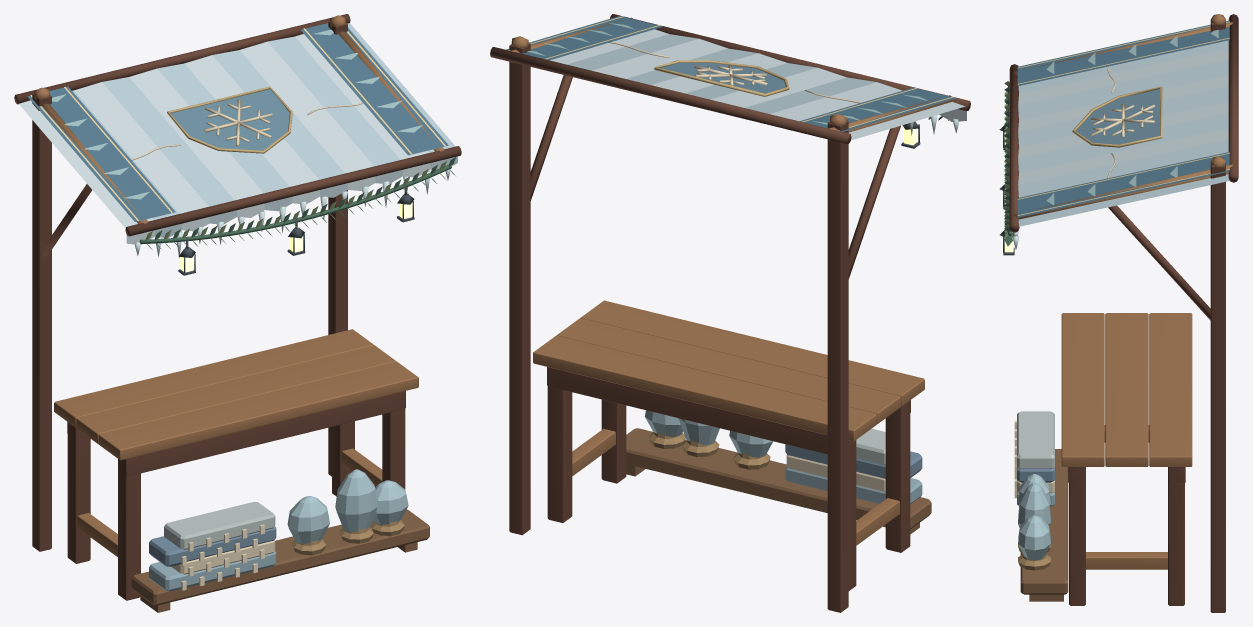
The model's file is stall_frost.glb.
The picture shows the model from 3 angles, left to right: view 1: azimuth 30°, elevation 25°; view 2: azimuth 150°, elevation 25°; view 3: azimuth 270°, elevation 25°; orthographic projection. The views are drawn at different scales.
Parts seen in each view (by area): view 1: stall_frost; view 2: stall_frost; view 3: stall_frost.
Part boxes in pixels (box(x1,y1,x2,y2)): stall_frost: box(14, 14, 461, 612); stall_frost: box(490, 14, 970, 612); stall_frost: box(999, 14, 1238, 612).
Size of the model in its own units: 1.88 by 2.5 by 1.19.
